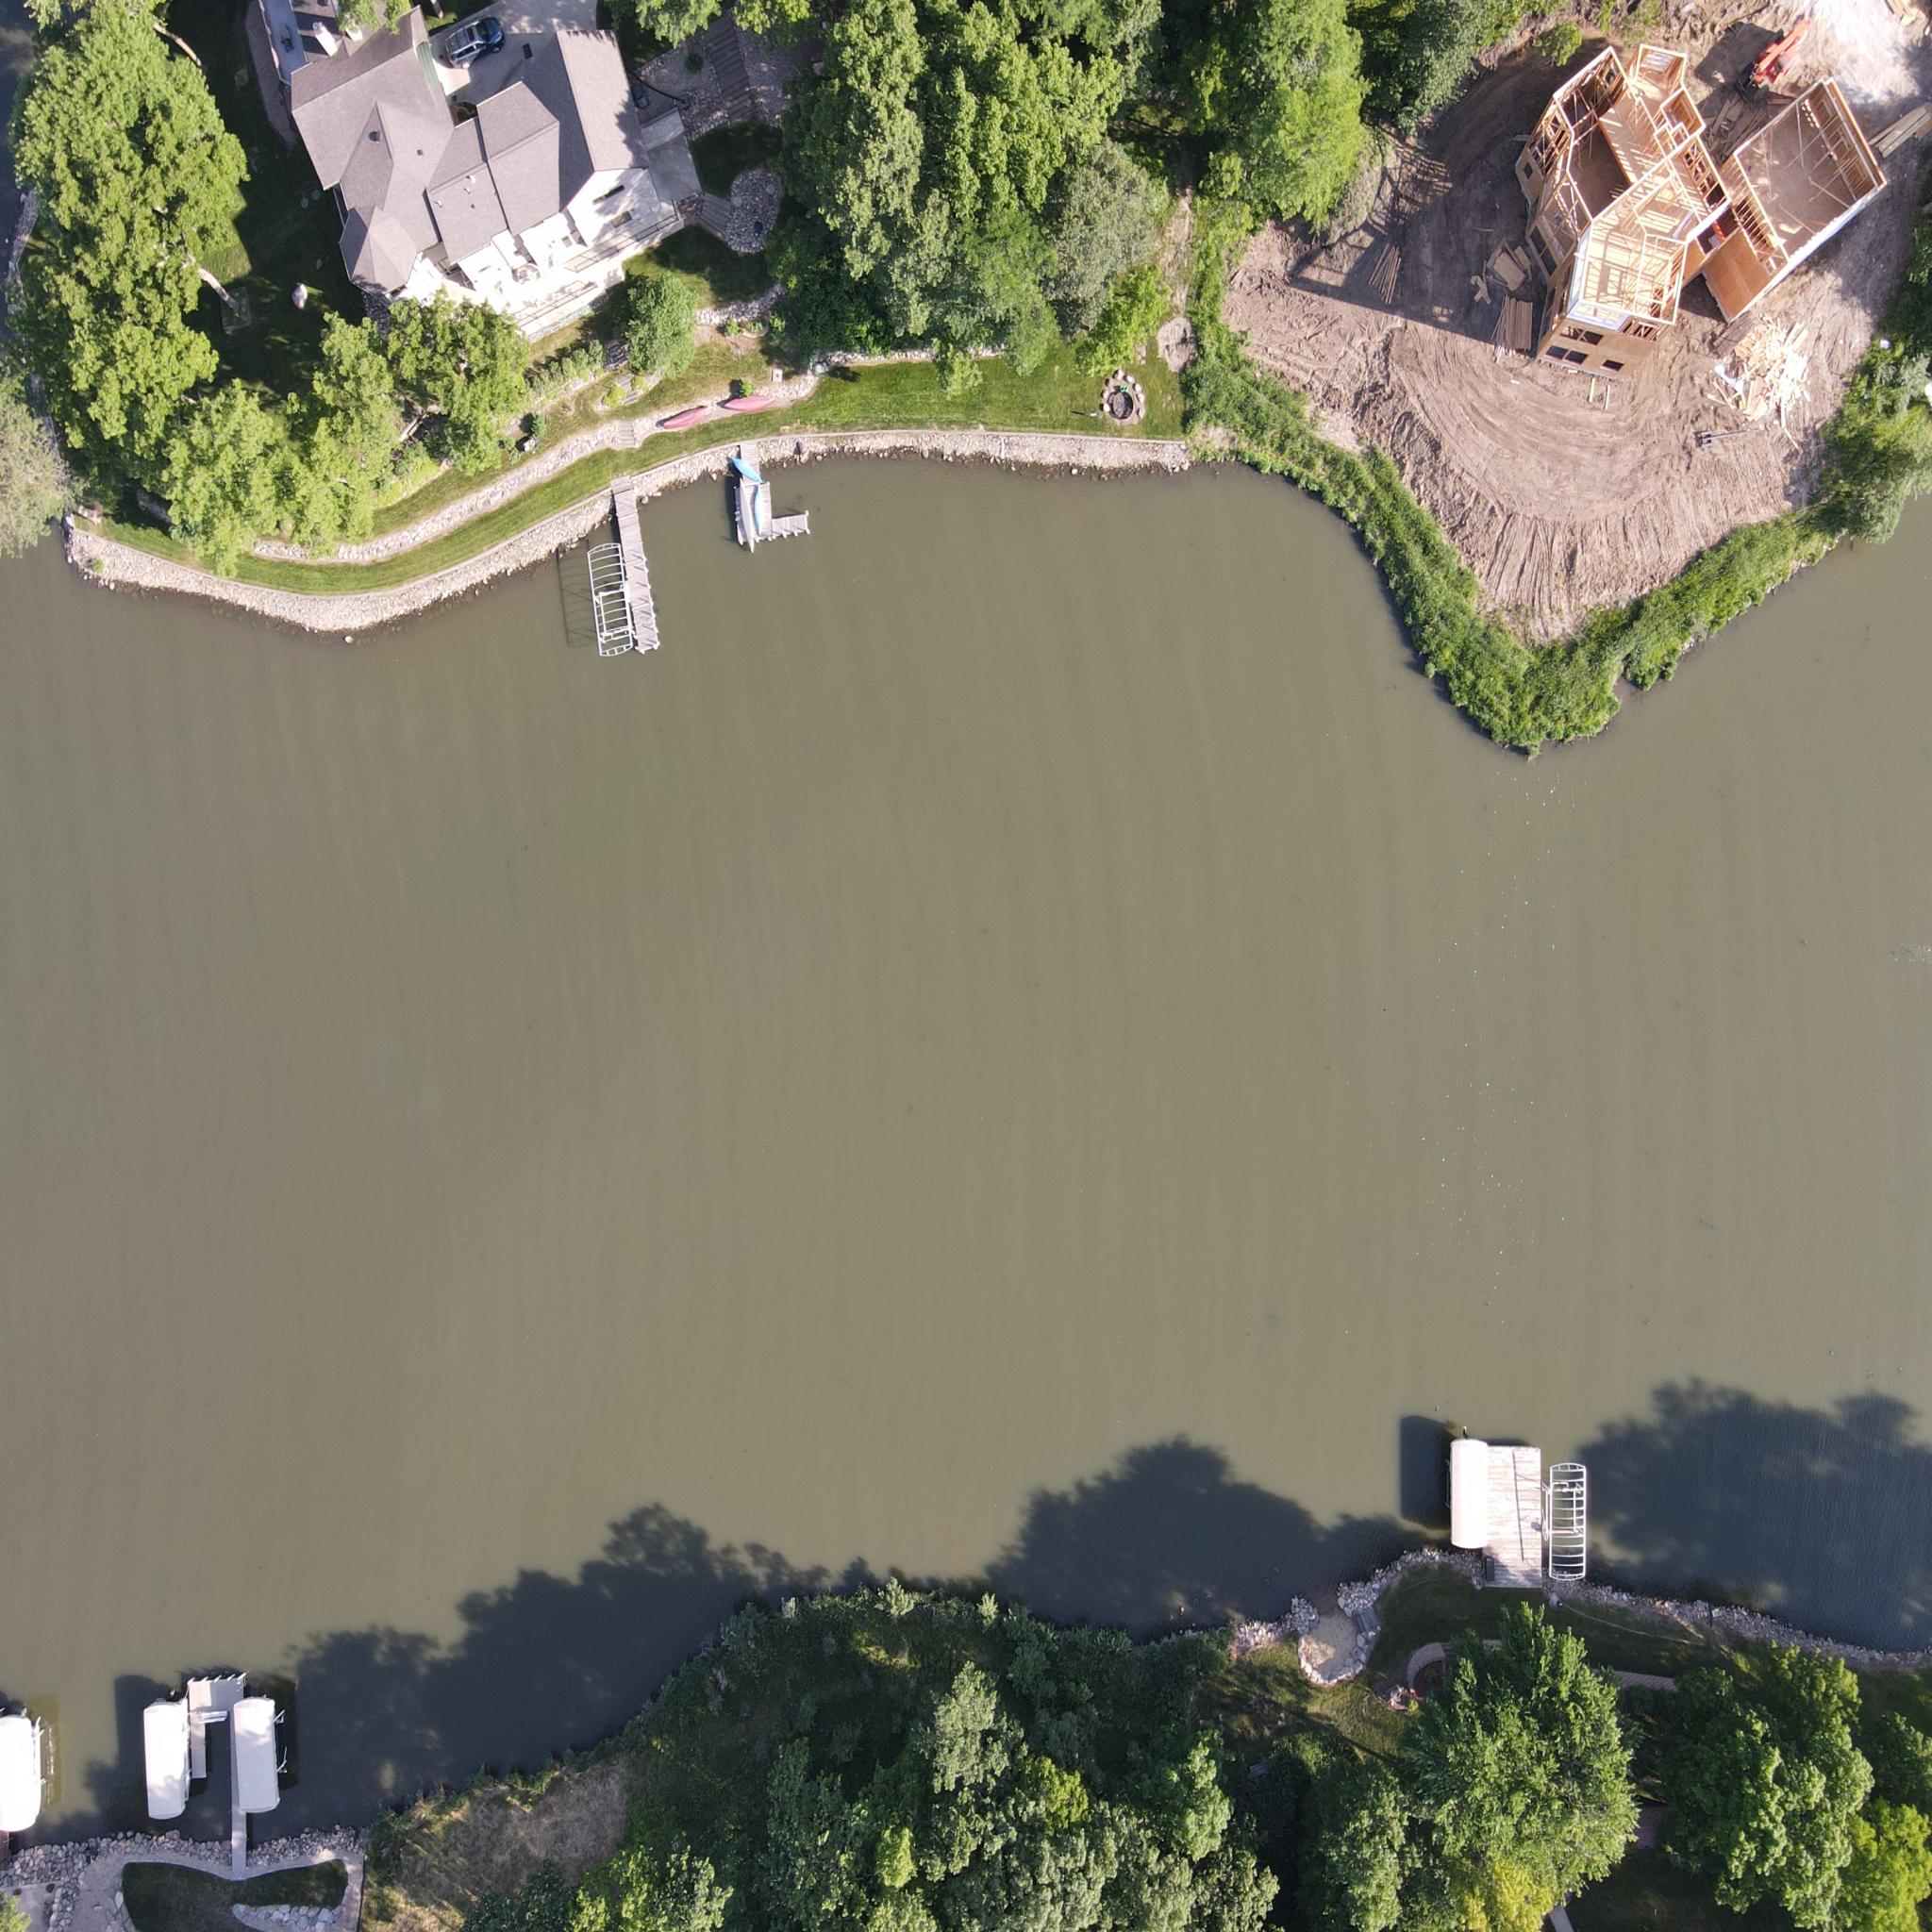dock: (184, 1670, 260, 1868), (603, 474, 671, 665), (1481, 1440, 1546, 1596), (732, 456, 812, 545), (0, 1706, 23, 1875)
lift: (232, 1684, 292, 1819), (1543, 1461, 1606, 1583), (586, 543, 632, 678), (1442, 1440, 1495, 1555), (142, 1693, 184, 1836), (0, 1718, 46, 1831)
